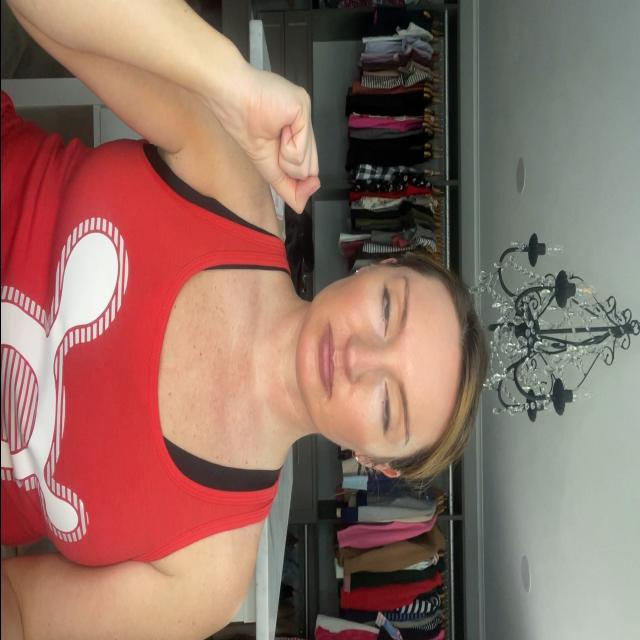Rock: (231, 67, 319, 215)
